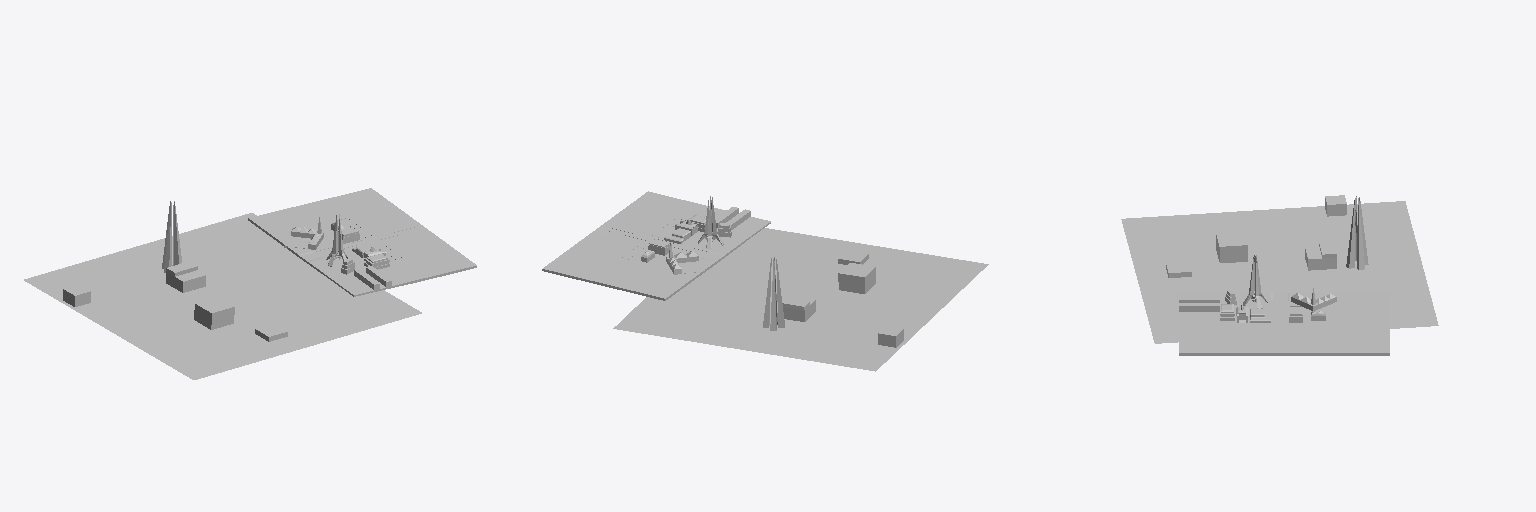
Rendered from Level_MinusBigBuildings.obj.
3 views of the same model, side by side, from view 1: azimuth 30°, elevation 25°; view 2: azimuth 150°, elevation 25°; view 3: azimuth 270°, elevation 25° (orthographic).
Parts seen in each view (by area): view 1: pPlane1, pCube1, Tower4, Level_3:pCube1; view 2: pPlane1, pCube1, Tower4, Level_3:pCube1; view 3: pPlane1, pCube1, Tower4, Level_3:pCube1.
Boxes of the visible parts, box(x1,y1,x2,y2) form: pPlane1: box(24, 213, 421, 379); pCube1: box(248, 188, 476, 296); Tower4: box(162, 201, 181, 272); Level_3:pCube1: box(284, 217, 323, 249); pPlane1: box(613, 228, 988, 371); pCube1: box(542, 191, 770, 300); Tower4: box(763, 257, 784, 330); Level_3:pCube1: box(666, 243, 704, 274); pPlane1: box(1121, 195, 1438, 343); pCube1: box(1179, 290, 1389, 355); Tower4: box(1346, 196, 1368, 269); Level_3:pCube1: box(1291, 288, 1336, 310).
Bounding box in the file's own units: 1043 × 216 × 842.